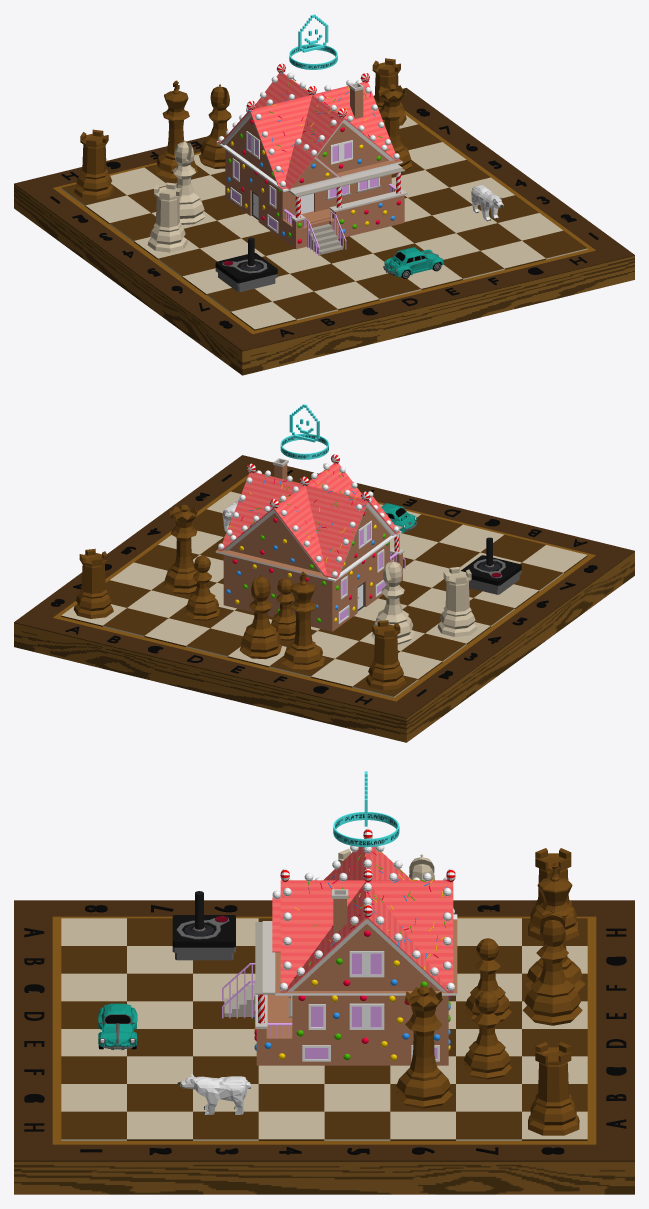
3 renders of one model, top to bottom at view 1: azimuth 30°, elevation 25°; view 2: azimuth 150°, elevation 25°; view 3: azimuth 270°, elevation 25°, orthographic. The views are drawn at different scales.
Visible parts, largest first — view 1: Cube.002, Cube.1203, OBJRANDOM_JOYSTICK, VEHICLES_VOLKSWAGEN, TYPE_PREMIUM, ANIMAL_OSO_POLAR; view 2: Cube.002, Cube.1203, OBJRANDOM_JOYSTICK, TYPE_PREMIUM, VEHICLES_VOLKSWAGEN; view 3: Cube.002, Cube.1203, OBJRANDOM_JOYSTICK, VEHICLES_VOLKSWAGEN, ANIMAL_OSO_POLAR, TYPE_PREMIUM.
Part boxes in pixels (box(x1,y1,x2,y2)): Cube.002: box(14, 58, 634, 375); Cube.1203: box(216, 63, 407, 255); OBJRANDOM_JOYSTICK: box(215, 237, 277, 292); VEHICLES_VOLKSWAGEN: box(383, 247, 444, 278); TYPE_PREMIUM: box(289, 14, 337, 69); ANIMAL_OSO_POLAR: box(471, 185, 503, 221); Cube.002: box(14, 455, 634, 742); Cube.1203: box(215, 454, 405, 631); OBJRANDOM_JOYSTICK: box(461, 537, 521, 594); TYPE_PREMIUM: box(280, 404, 328, 459); VEHICLES_VOLKSWAGEN: box(381, 503, 417, 532); Cube.002: box(14, 848, 634, 1194); Cube.1203: box(222, 828, 457, 1065); OBJRANDOM_JOYSTICK: box(172, 891, 235, 960); VEHICLES_VOLKSWAGEN: box(98, 1003, 137, 1050); ANIMAL_OSO_POLAR: box(177, 1074, 251, 1114); TYPE_PREMIUM: box(333, 771, 399, 847).
Size of the model in its own units: 3981 by 2194 by 4012.
47 materials, 4 textured.
